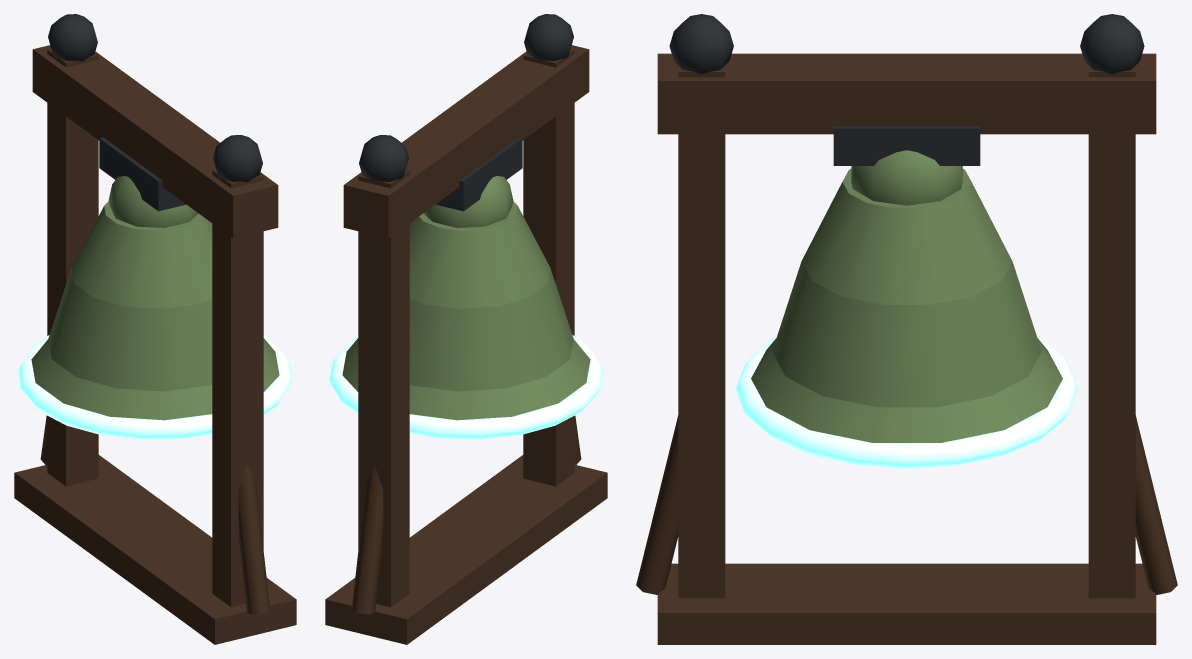
Rendered from mount-bell.glb.
3 renders of one model, left to right at view 1: azimuth 30°, elevation 25°; view 2: azimuth 150°, elevation 25°; view 3: azimuth 270°, elevation 25°, orthographic. The views are drawn at different scales.
Parts seen in each view (by area): view 1: Mesh_Sill, Mesh_PostS, Mesh_Crossbeam, Mesh_Waist, Mesh_PostP, Mesh_Shoulder, Mesh_Lip, Mesh_LipGlow, Mesh_BraceS, Mesh_Crown, Mesh_Yoke, Mesh_FinialS (+1 smaller); view 2: Mesh_Sill, Mesh_PostP, Mesh_Crossbeam, Mesh_Waist, Mesh_PostS, Mesh_Shoulder, Mesh_Lip, Mesh_LipGlow, Mesh_BraceP, Mesh_Crown, Mesh_Yoke, Mesh_FinialP (+1 smaller); view 3: Mesh_Crossbeam, Mesh_Sill, Mesh_Waist, Mesh_PostP, Mesh_PostS, Mesh_Shoulder, Mesh_Lip, Mesh_LipGlow, Mesh_Yoke, Mesh_Crown, Mesh_BraceP, Mesh_BraceS (+2 smaller).
Part boxes in pixels (<box>): Mesh_Sill: <box>14,455,296,644</box>; Mesh_PostS: <box>212,169,263,607</box>; Mesh_Crossbeam: <box>32,45,278,238</box>; Mesh_Waist: <box>48,268,212,391</box>; Mesh_PostP: <box>47,48,98,486</box>; Mesh_Shoulder: <box>71,201,212,308</box>; Mesh_Lip: <box>31,338,279,420</box>; Mesh_LipGlow: <box>18,335,292,439</box>; Mesh_BraceS: <box>238,464,270,614</box>; Mesh_Crown: <box>108,176,198,227</box>; Mesh_Yoke: <box>99,137,185,211</box>; Mesh_FinialS: <box>213,135,262,182</box>; Mesh_Sill: <box>325,455,607,644</box>; Mesh_PostP: <box>358,169,409,607</box>; Mesh_Crossbeam: <box>343,45,589,238</box>; Mesh_Waist: <box>409,268,573,391</box>; Mesh_PostS: <box>523,48,574,486</box>; Mesh_Shoulder: <box>409,201,550,308</box>; Mesh_Lip: <box>342,338,590,420</box>; Mesh_LipGlow: <box>329,335,603,439</box>; Mesh_BraceP: <box>351,464,383,614</box>; Mesh_Crown: <box>423,176,513,227</box>; Mesh_Yoke: <box>436,137,522,211</box>; Mesh_FinialP: <box>359,135,408,182</box>; Mesh_Crossbeam: <box>657,53,1156,134</box>; Mesh_Sill: <box>657,563,1156,644</box>; Mesh_Waist: <box>772,262,1041,407</box>; Mesh_PostP: <box>1088,65,1135,598</box>; Mesh_PostS: <box>678,65,725,598</box>; Mesh_Shoulder: <box>801,169,1012,304</box>; Mesh_Lip: <box>751,338,1062,442</box>; Mesh_LipGlow: <box>735,336,1078,468</box>; Mesh_Yoke: <box>833,126,980,165</box>; Mesh_Crown: <box>851,150,962,205</box>; Mesh_BraceP: <box>1135,415,1177,594</box>; Mesh_BraceS: <box>636,415,678,594</box>.
Bounding box in the file's own units: 1.17 × 2.27 × 1.85.
